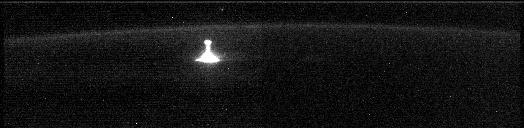positive: (200, 36, 214, 52)
